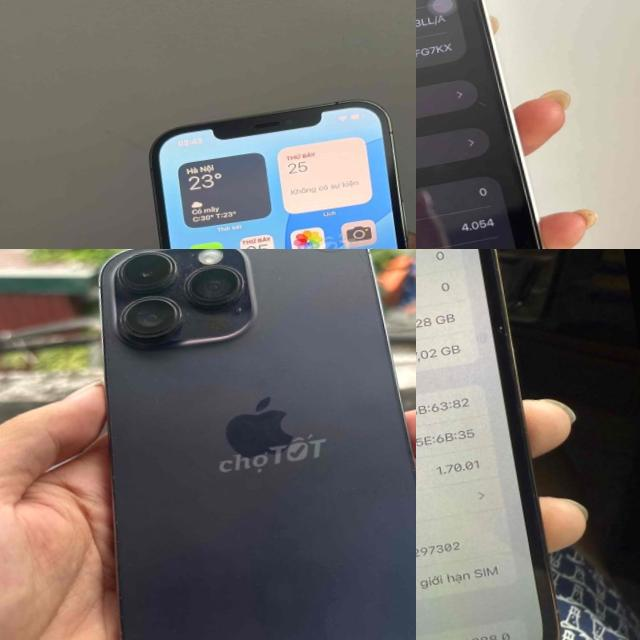gen_12_13: (416, 249, 574, 640), (128, 85, 416, 249)
gen_14: (34, 249, 416, 640), (416, 0, 574, 249)
